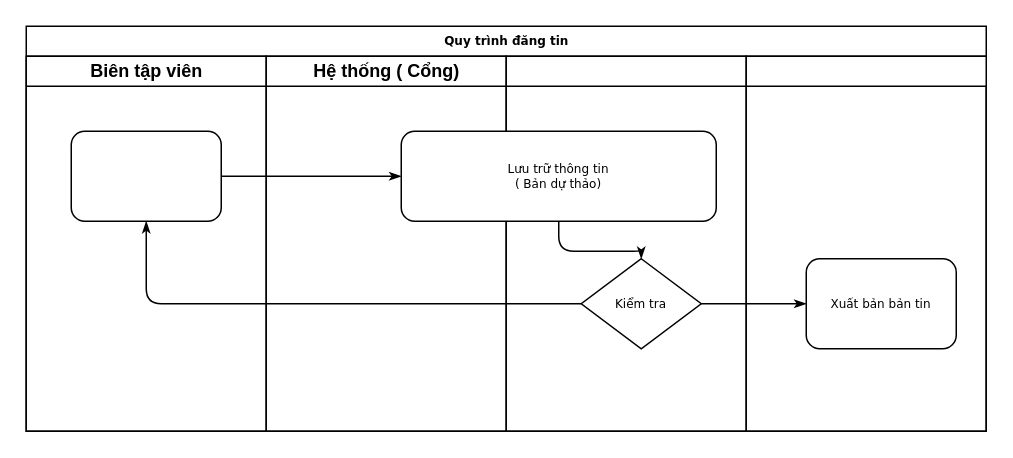
Image size: 1013x458. Some labels were removed from this diagram. The shapes that lost their labels are listed below. From the top down, each one's box as (x1, y1, x2, y2) in pixels, then its label:
(70, 130, 221, 221): Đăng tin
(505, 55, 746, 431): Kiểm tra tin
(745, 55, 986, 431): Xuất bản ( Công khai)
